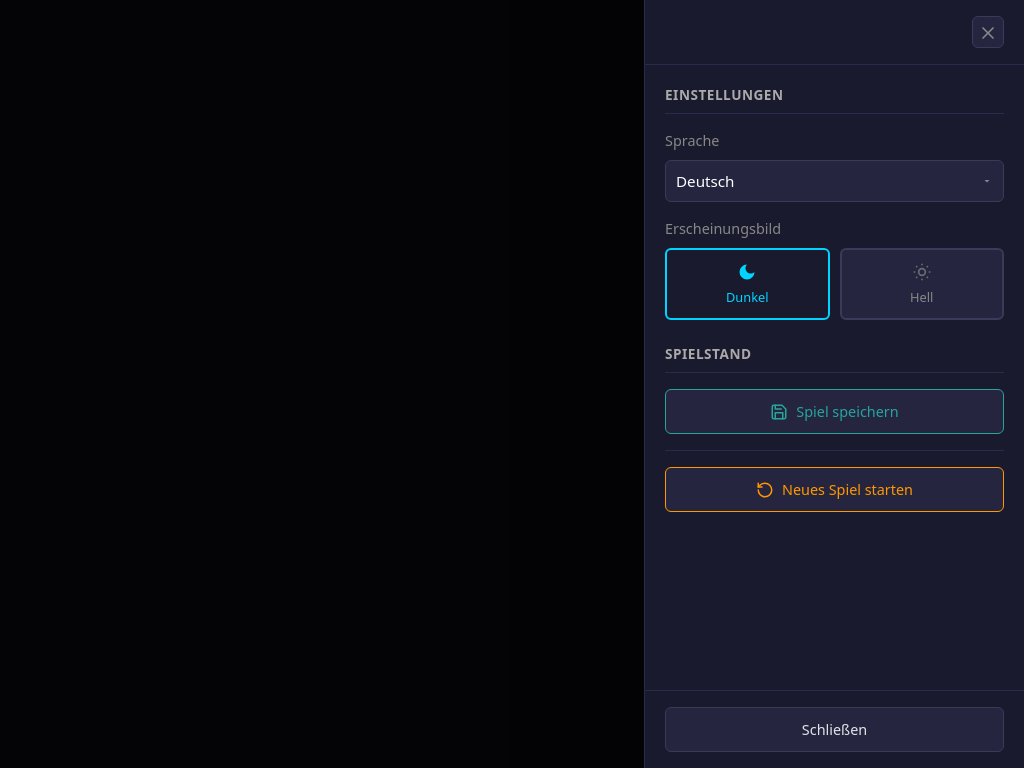
Test case: SettingsSidebar › language change › should display Japanese language option
Click the button "Deutsch". click: click(705, 181)
box: x1=665 y1=160 x2=1004 y2=202
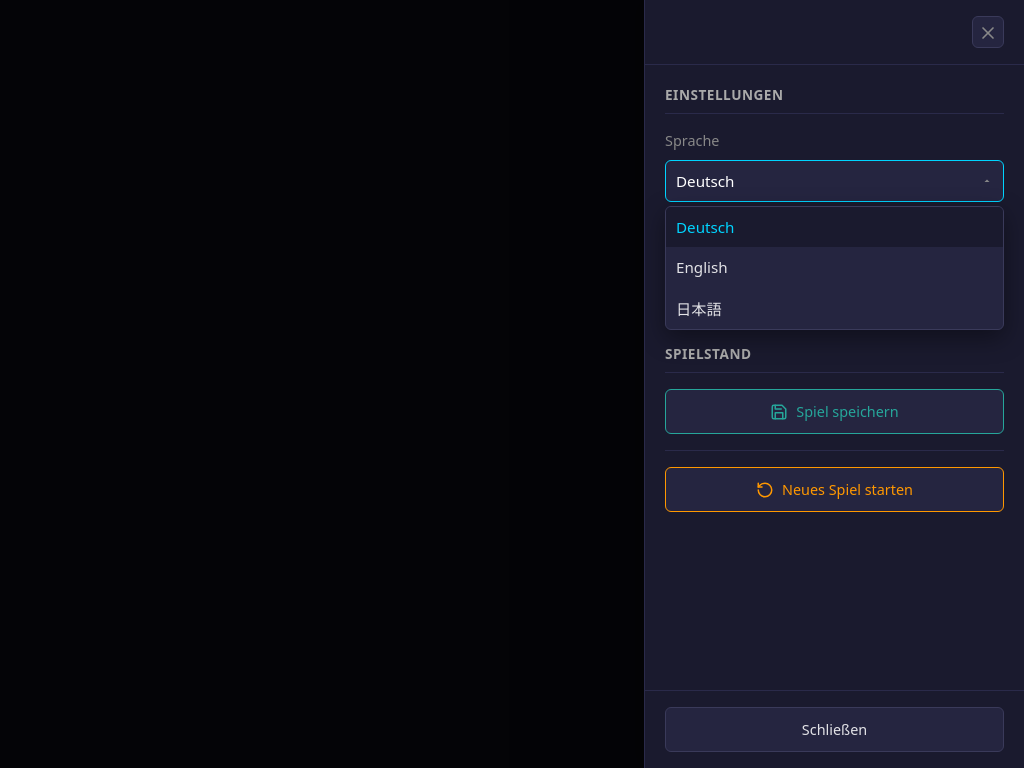
Result: the button "日本語" is shown at x1=666 y1=287 x2=1003 y2=329
